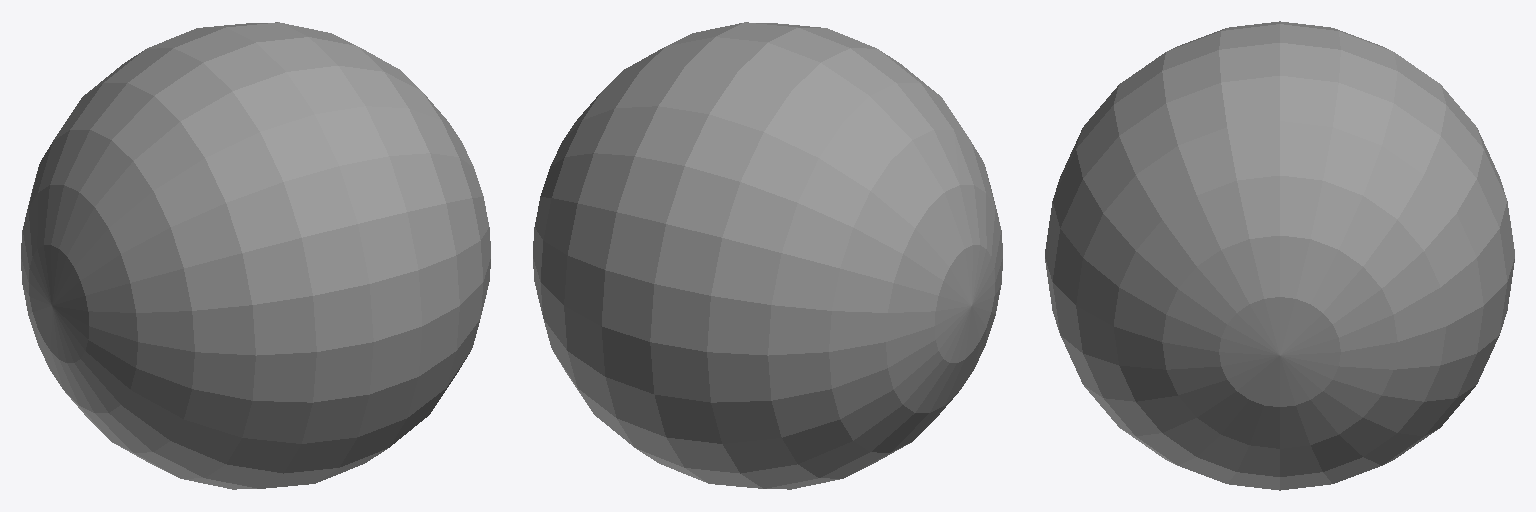
File: orb.obj
The picture shows the model from 3 angles: view 1: azimuth 30°, elevation 25°; view 2: azimuth 150°, elevation 25°; view 3: azimuth 270°, elevation 25°; orthographic projection.
Visible parts, largest first — view 1: orb; view 2: orb; view 3: orb.
Boxes of the visible parts, x1,y1,x2,y2 form: orb: [21, 22, 490, 489]; orb: [533, 22, 1002, 489]; orb: [1045, 21, 1514, 490].
Bounding box in the file's own units: 0.5 × 0.5 × 0.5.